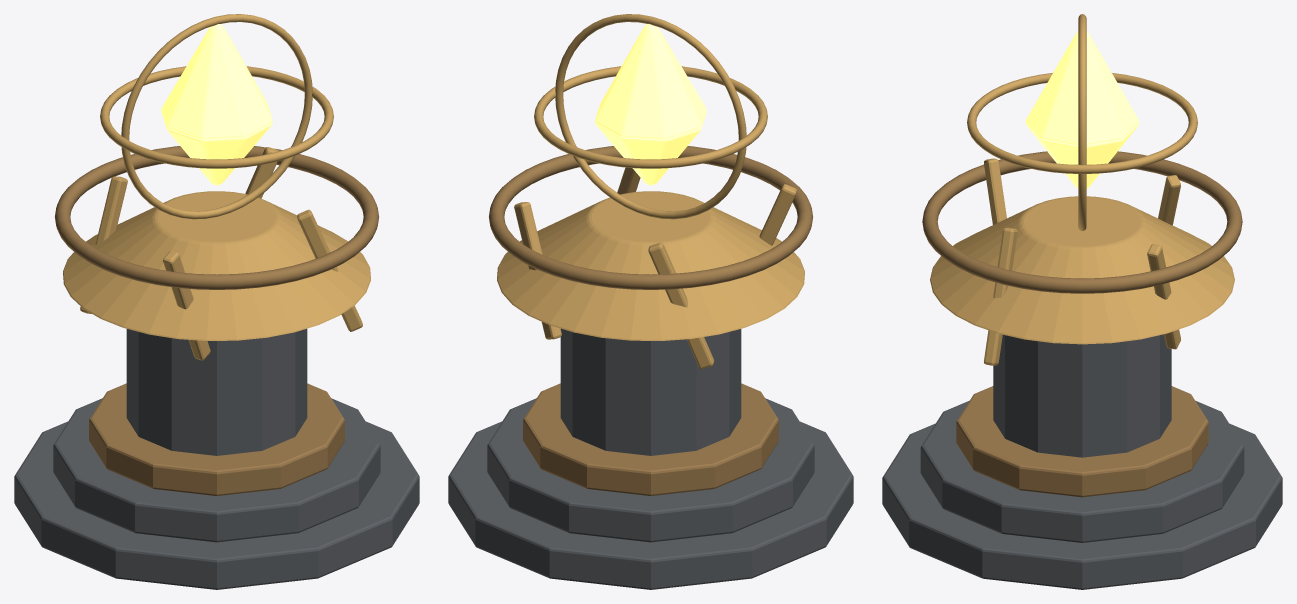
The model's file is beacon.glb.
The picture shows the model from 3 angles, left to right: view 1: azimuth 30°, elevation 25°; view 2: azimuth 150°, elevation 25°; view 3: azimuth 270°, elevation 25°; orthographic projection.
Parts seen in each view (by area): view 1: BeaconBase, BeaconCrystal; view 2: BeaconBase, BeaconCrystal; view 3: BeaconBase, BeaconCrystal.
Boxes of the visible parts, bbox=[...] form: BeaconBase: bbox=[14, 14, 419, 589]; BeaconCrystal: bbox=[161, 24, 272, 185]; BeaconBase: bbox=[448, 14, 853, 589]; BeaconCrystal: bbox=[595, 24, 706, 185]; BeaconBase: bbox=[882, 14, 1282, 589]; BeaconCrystal: bbox=[1025, 31, 1139, 188].
Size of the model in its own units: 2.6 by 3.46 by 2.6.
